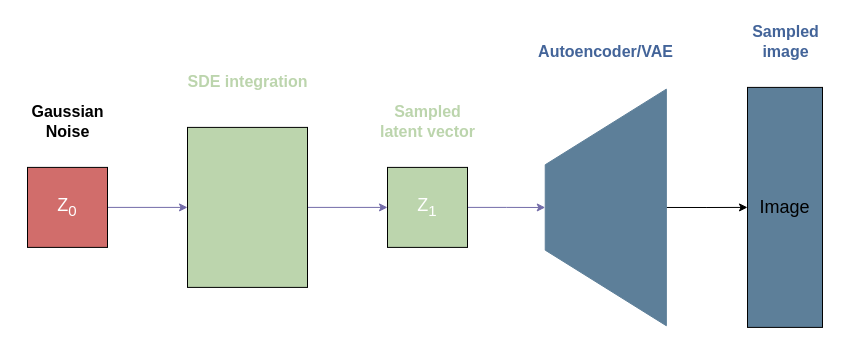
The diagram is 847 pixels wide and 345 high, and some of its shapes have lost their labels. Each missing label, with the centre of its shape:
"Decode" goes at pixel 605 207.
"Flow/Diffusion Process" goes at pixel 247 206.
